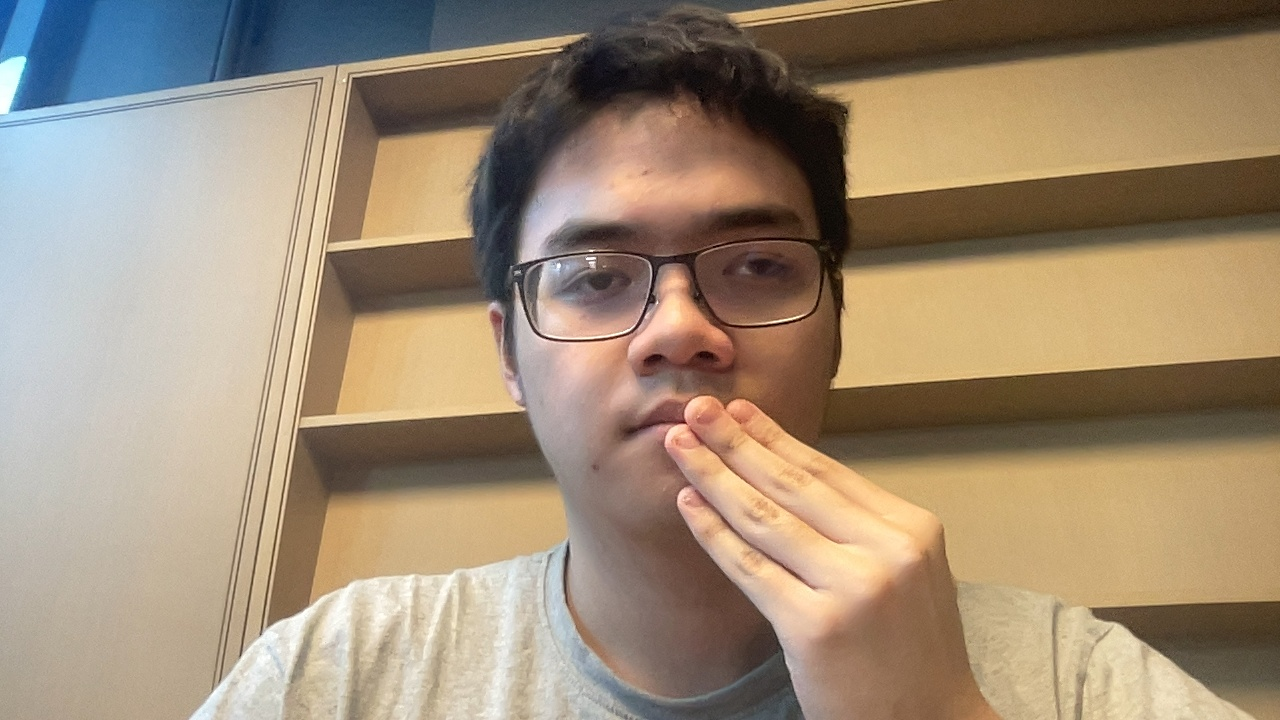thankyou: (637, 393, 1015, 690)
